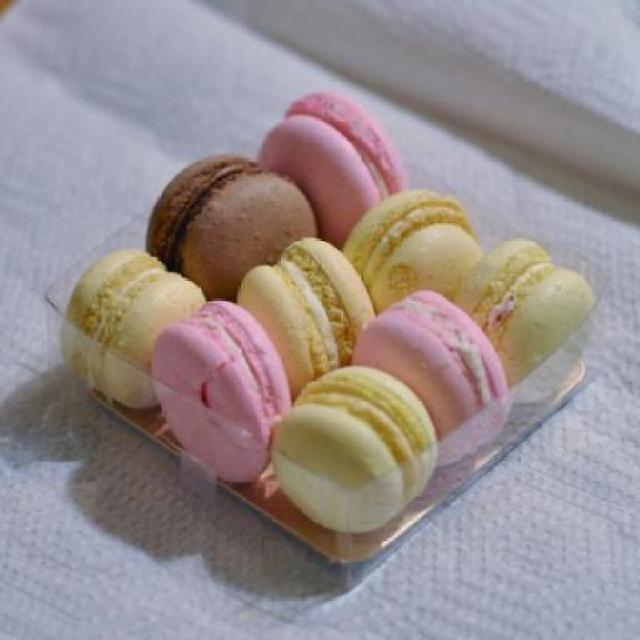Macaron: (56, 84, 592, 578)
